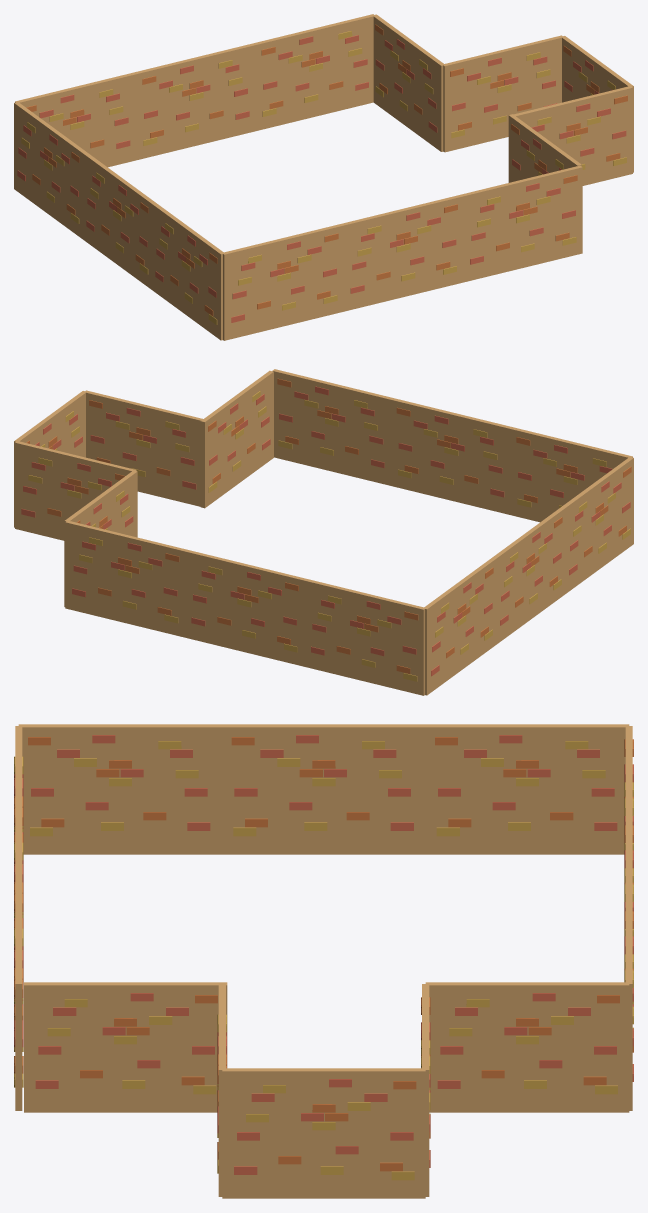
File: walls.fbx
The picture shows the model from 3 angles, top to bottom: view 1: azimuth 30°, elevation 25°; view 2: azimuth 150°, elevation 25°; view 3: azimuth 270°, elevation 25°; orthographic projection. The views are drawn at different scales.
Visible parts, largest first — view 1: walls; view 2: walls; view 3: walls.
Boxes of the visible parts, left/top/right/bottom form: walls: left=14, top=14, right=633, bottom=340; walls: left=14, top=369, right=633, bottom=695; walls: left=14, top=724, right=633, bottom=1198.
Bounding box in the file's own units: 40.47 × 6.9 × 30.47.
